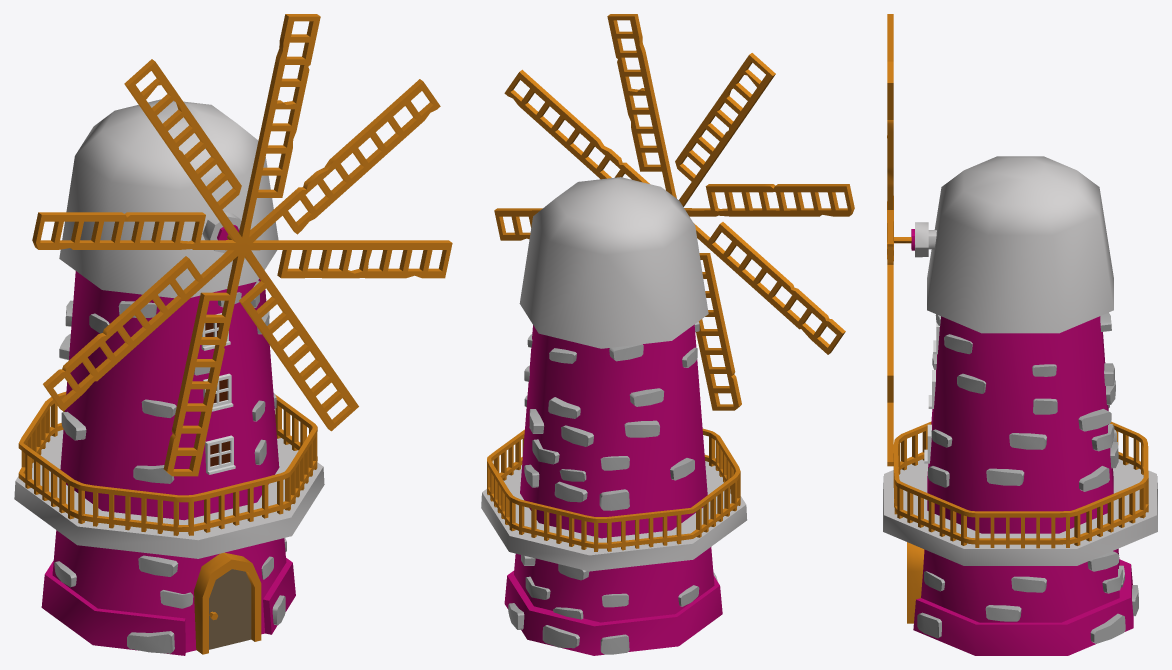
File: mill.glb
3 renders of one model, left to right at view 1: azimuth 30°, elevation 25°; view 2: azimuth 150°, elevation 25°; view 3: azimuth 270°, elevation 25°, orthographic. The views are drawn at different scales.
Visible parts, largest first — view 1: Object_11, Object_19, Object_17, Object_20, Object_14, Object_2, Object_15, Object_18, Object_7; view 2: Object_11, Object_17, Object_19, Object_14, Object_20; view 3: Object_11, Object_17, Object_14, Object_20, Object_19, Object_15, Object_18.
Boxes of the visible parts, box(x1,y1,x2,y2) form: Object_11: box(41, 225, 295, 655); Object_19: box(32, 14, 452, 476); Object_17: box(14, 99, 324, 558); Object_20: box(18, 392, 317, 535); Object_14: box(54, 280, 286, 653); Object_2: box(209, 569, 251, 649); Object_15: box(194, 552, 261, 654); Object_18: box(201, 313, 235, 474); Object_7: box(205, 323, 229, 466); Object_11: box(504, 324, 722, 655); Object_17: box(481, 177, 747, 571); Object_19: box(494, 14, 854, 410); Object_14: box(508, 321, 717, 654); Object_20: box(487, 428, 740, 551); Object_11: box(911, 229, 1133, 655); Object_17: box(883, 156, 1157, 565); Object_14: box(917, 312, 1138, 643); Object_20: box(893, 421, 1148, 548); Object_19: box(887, 14, 911, 466); Object_15: box(907, 542, 924, 623); Object_18: box(924, 322, 939, 463).
Size of the model in its own units: 2.79 by 4.02 by 1.76.
